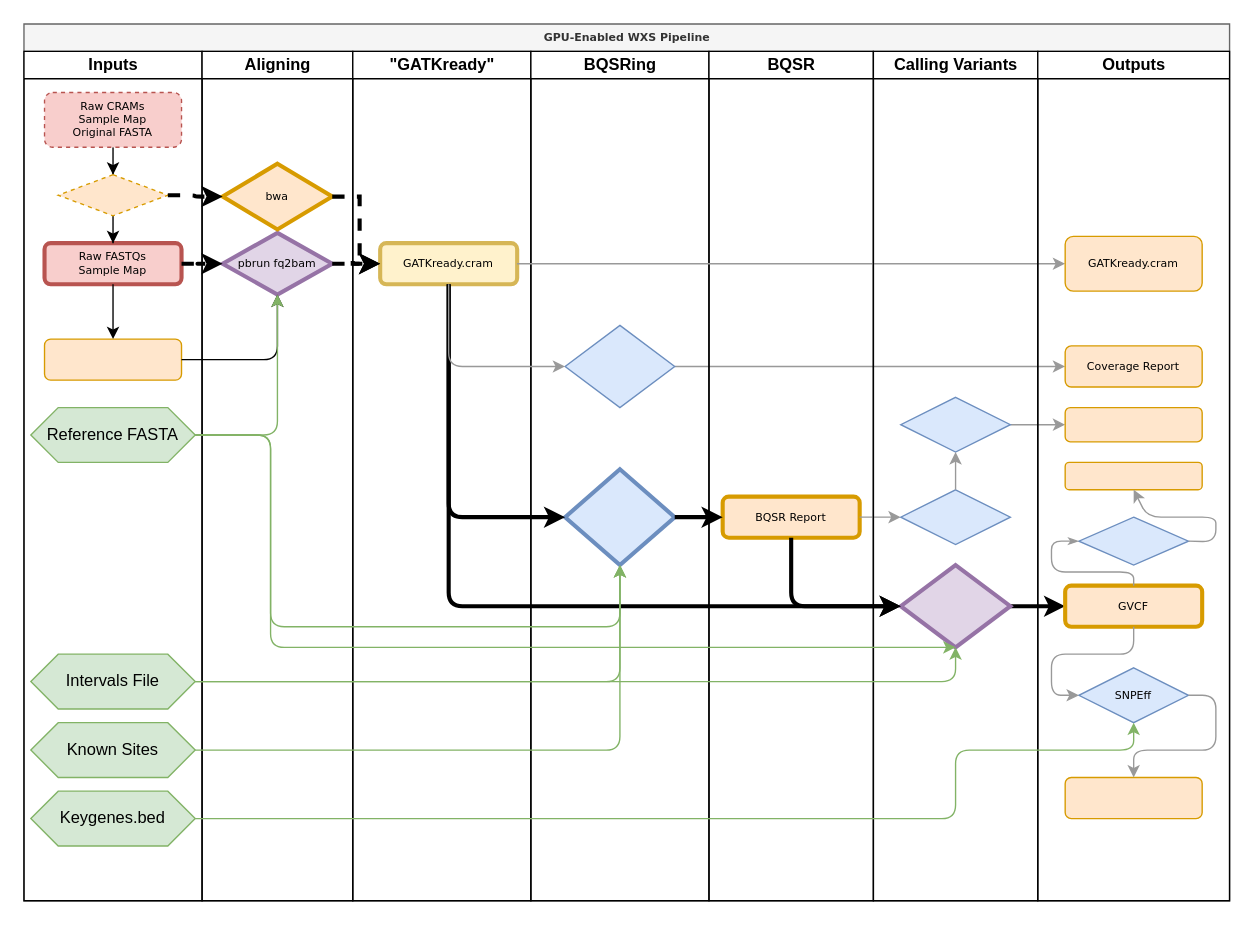
Some shapes in this 1254 by 925 pixel diagram are drawn without their labels. The shapes that lost their labels are listed below. From the top down, each one's centre as x and y in pixels, then its label:
At [112,194]: "Stageincram.bash".
At [112,359]: "in-fq-lists".
At [619,366]: "AnalyzeDepth ofCoverage".
At [954,424]: "VerifyBamID".
At [1133,424]: "FREEMIX".
At [1133,475]: "TITV Ratio".
At [619,516]: "BaseRecalibrator Spark".
At [954,516]: "ApplyBQSR".
At [1133,540]: "EvaluateVariants".
At [955,605]: "pbrun HaplotypeCaller".
At [1133,797]: "Key Gene Annotations".
